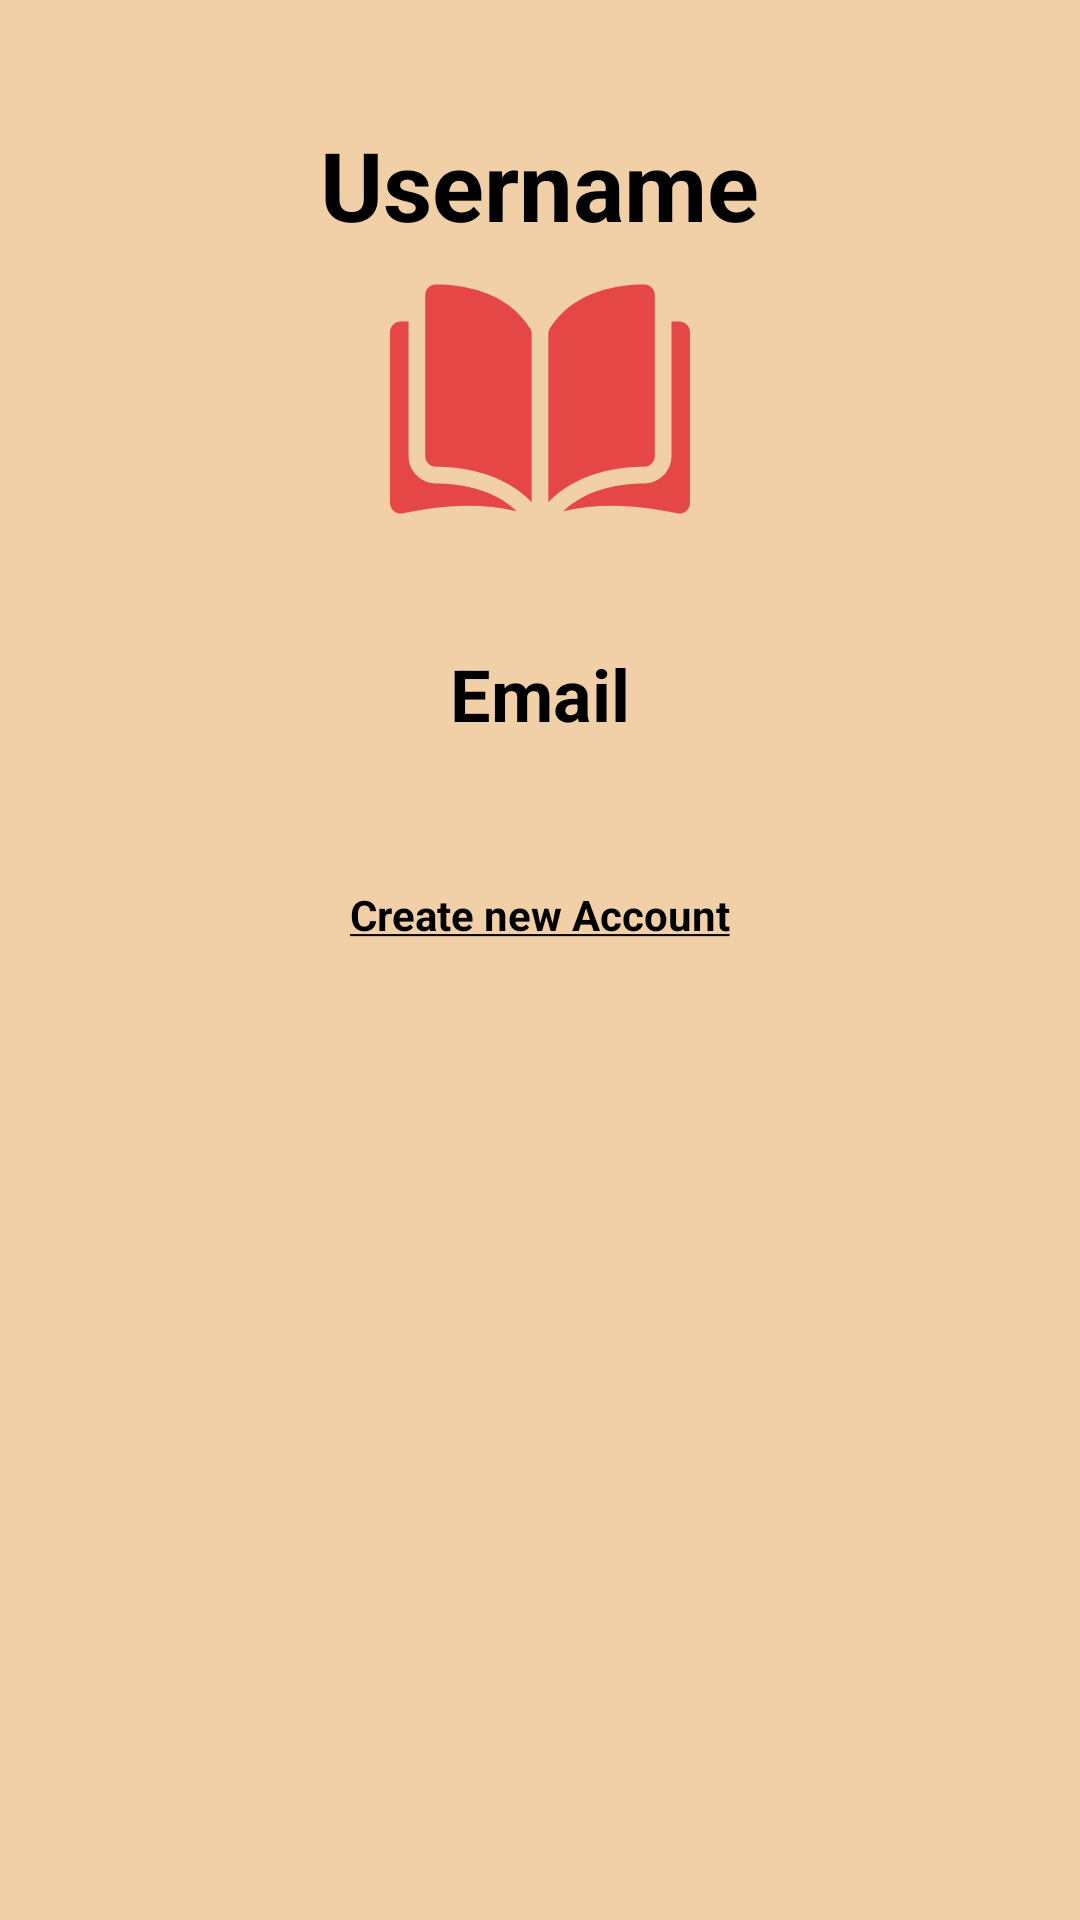

Where icons sit on this 1080×1920 app screen, as (x1, y1, x2, y2):
open book: (390, 284, 690, 514)
